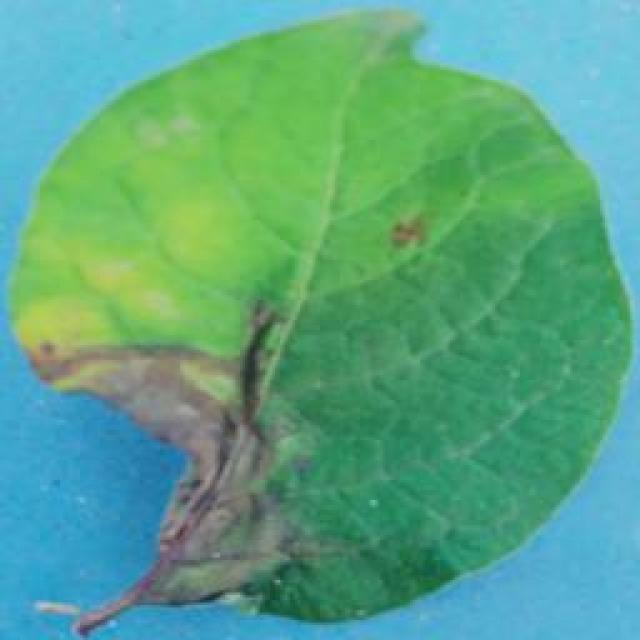Potato_Late_Blight: (13, 6, 629, 618)
